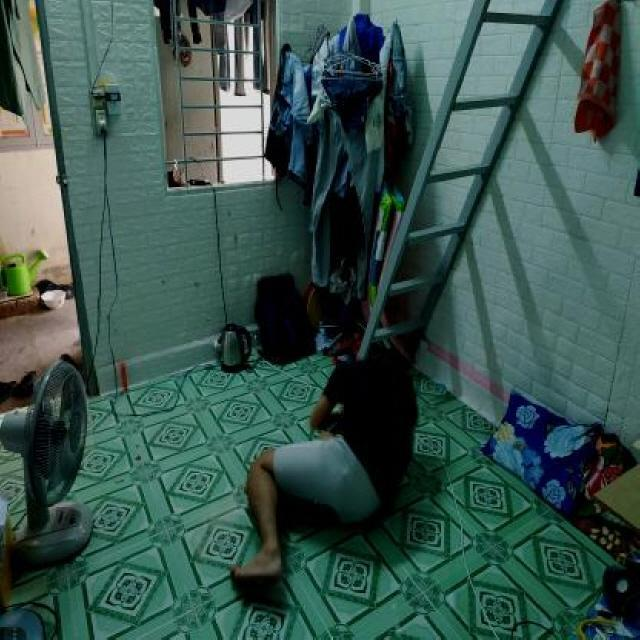Stand: (232, 345, 419, 586)
